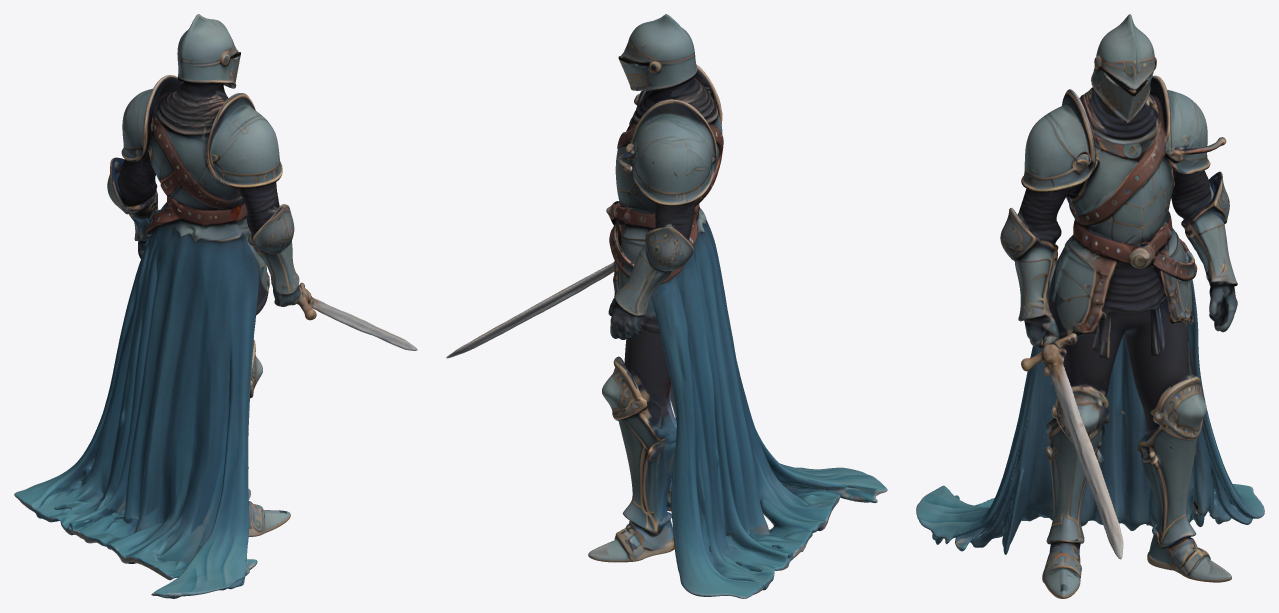
The model's file is fantasy_knight.glb.
3 views of the same model, side by side, from view 1: azimuth 30°, elevation 25°; view 2: azimuth 150°, elevation 25°; view 3: azimuth 270°, elevation 25° (orthographic). The views are drawn at different scales.
Visible parts, largest first — view 1: tripo_node_3d4d0331-dbd0-41bf-9e23-6b9a09a9ed28_0; view 2: tripo_node_3d4d0331-dbd0-41bf-9e23-6b9a09a9ed28_0; view 3: tripo_node_3d4d0331-dbd0-41bf-9e23-6b9a09a9ed28_0.
Part boxes in pixels (x1,y1,x2,y2): tripo_node_3d4d0331-dbd0-41bf-9e23-6b9a09a9ed28_0: [14, 14, 417, 598]; tripo_node_3d4d0331-dbd0-41bf-9e23-6b9a09a9ed28_0: [446, 14, 887, 598]; tripo_node_3d4d0331-dbd0-41bf-9e23-6b9a09a9ed28_0: [916, 14, 1264, 598].
Size of the model in its own units: 0.7296 by 1 by 0.5694.
1 material, 1 textured.
